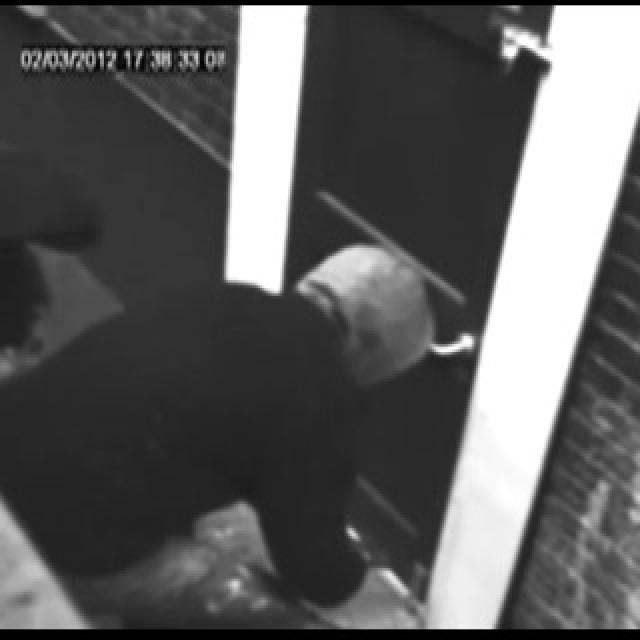thief: (280, 211, 454, 409)
